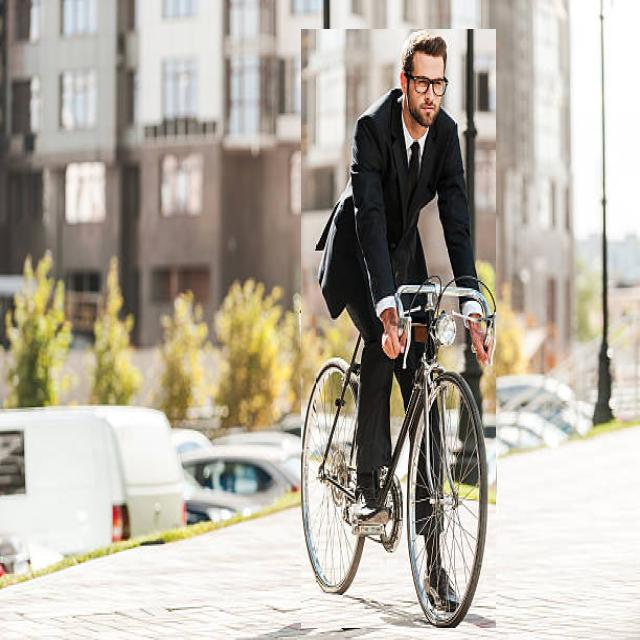bicycle: (301, 30, 496, 628)
